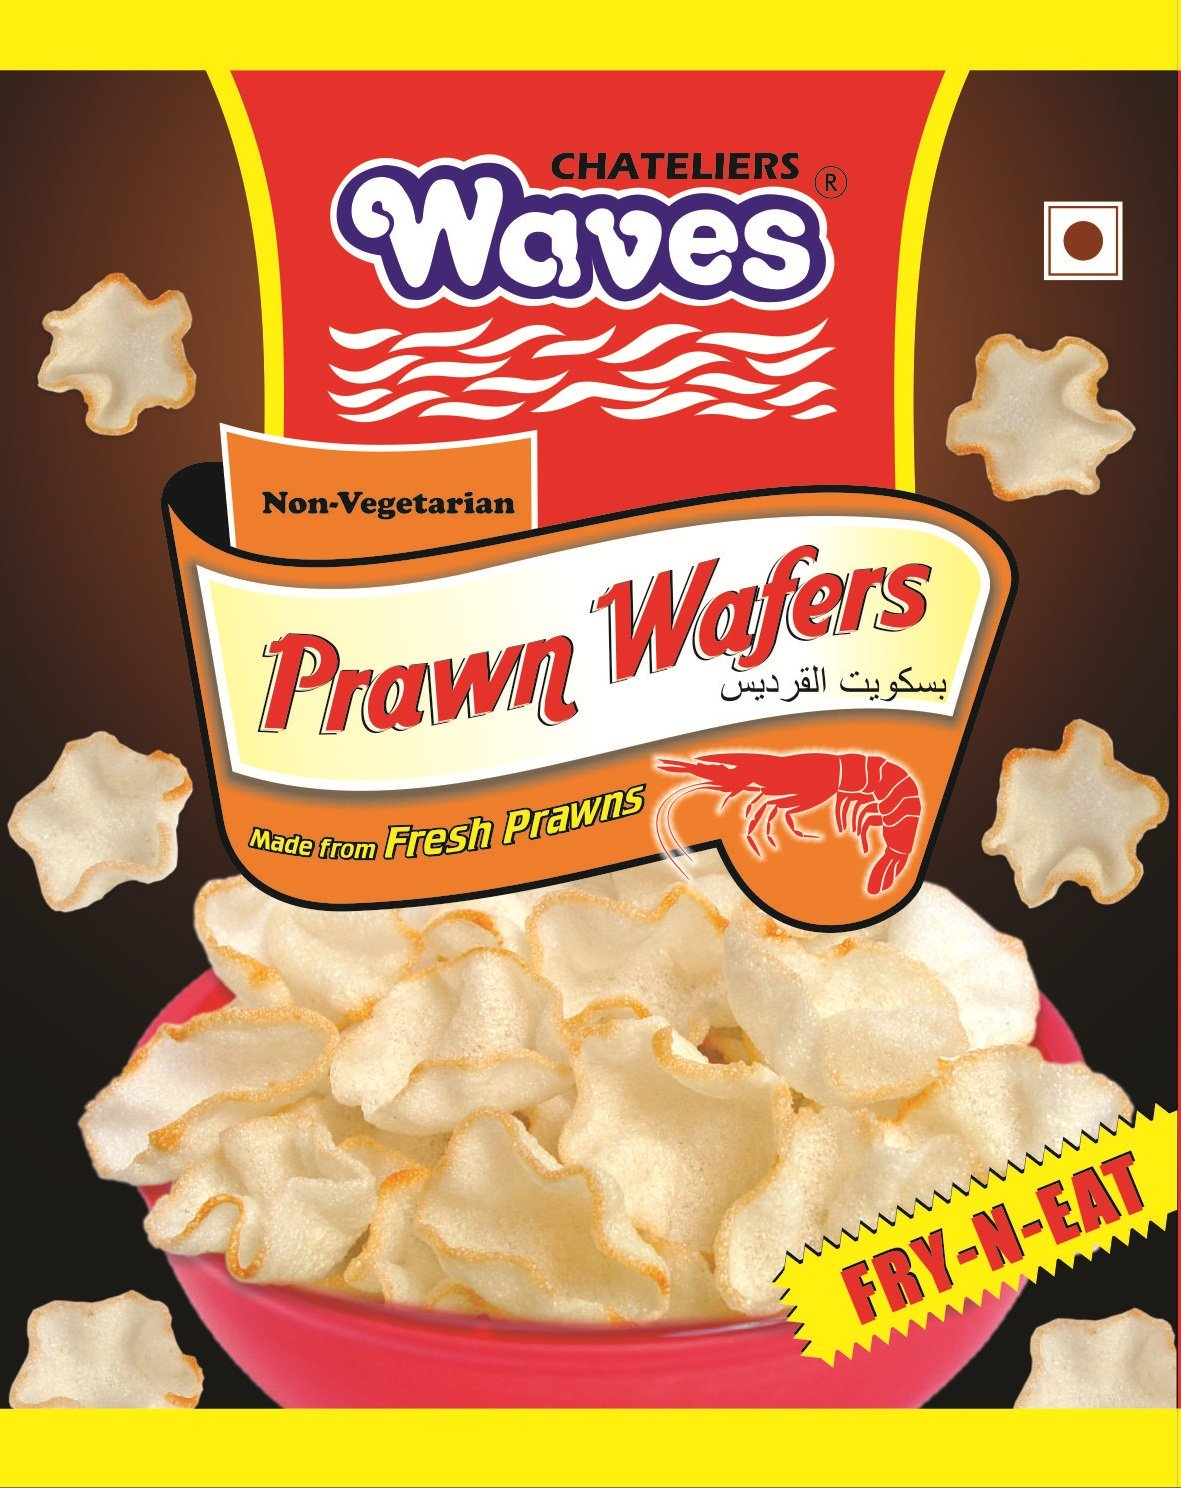nonveg_red: (1045, 203, 1124, 279)
